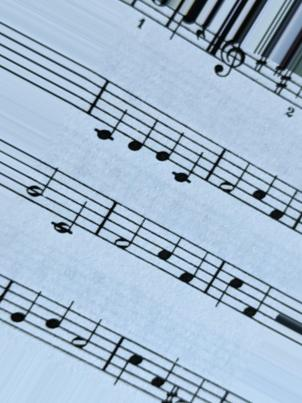A: (155, 218, 184, 289), (252, 157, 277, 229), (149, 344, 179, 402)
B: (44, 292, 76, 363)
D: (128, 88, 160, 164)
E: (156, 103, 185, 174)
F: (243, 266, 275, 335), (270, 169, 298, 233), (183, 234, 210, 299)
G: (9, 276, 43, 346)
HC: (110, 323, 144, 395), (211, 247, 245, 319)
LC: (92, 65, 128, 147), (170, 111, 205, 187)
